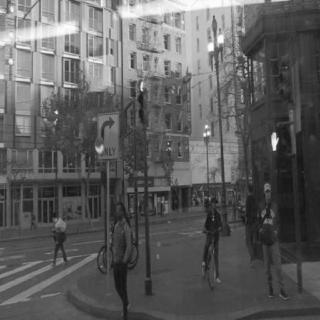other: (126, 4, 188, 38), (5, 6, 17, 73), (126, 222, 137, 268), (208, 40, 224, 58), (136, 77, 148, 95)
